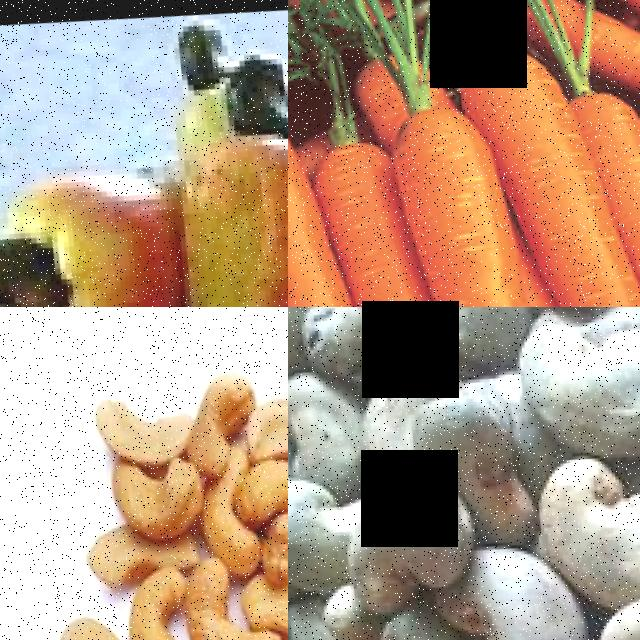carrot: (454, 130, 583, 307), (318, 140, 450, 307), (523, 83, 619, 307)
cashew: (402, 395, 528, 539), (508, 312, 640, 444), (536, 459, 640, 601), (450, 534, 580, 640), (54, 367, 187, 466), (358, 483, 450, 605), (84, 449, 195, 539), (413, 307, 535, 388), (288, 490, 359, 607), (186, 355, 246, 483), (224, 39, 288, 146), (68, 520, 160, 587), (0, 220, 68, 307), (184, 491, 256, 570), (179, 574, 257, 640), (239, 360, 288, 463), (128, 572, 199, 640), (41, 607, 141, 640), (245, 447, 288, 517)
